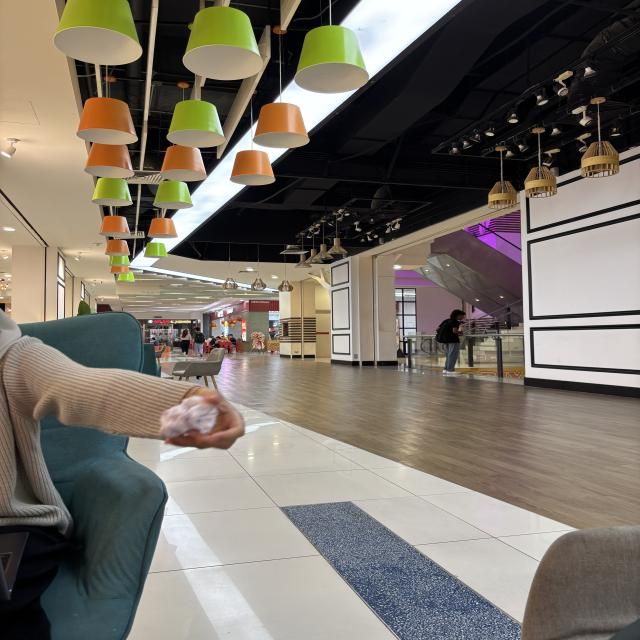crumpled_paper: (159, 396, 219, 438)
